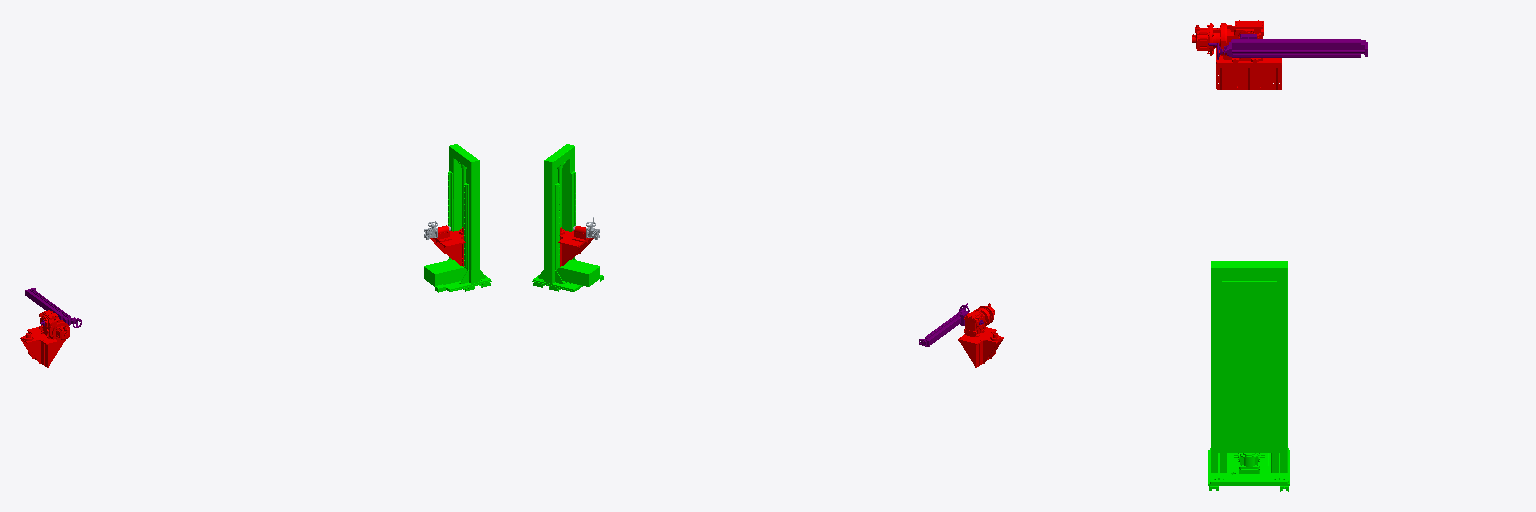
The robot description file, URDF, robot "positioner":
<?xml version="1.0"?>
<robot name="positioner">
  <!-- 
       Positioner Base Link
       Fixed structure, no joints.
       Mass and inertia are omitted as it is a fixed structure.
  -->
  <link name="base_link">
    <visual>
      <!-- Adjust scale if your mesh unit is not in meters (default is 1 1 1) -->
      <!-- Adjust origin if the mesh coordinate center needs fine-tuning -->
      <origin rpy="0 0 0" xyz="0 0 0" />
      <geometry>
        <mesh filename="meshes/positioner/visual/base.dae" />
      </geometry>
      <!-- Optional: Add material color if needed. DAE usually carries its own textures. -->
    </visual>
    <collision>
      <origin rpy="0 0 0" xyz="0 0 0" />
      <geometry>
        <mesh filename="meshes/positioner/collision/base.stl" scale="0.001 0.001 0.001"/>
      </geometry>
    </collision>
  </link>

  <!-- 
       NOTE: For some physics simulation environments (like Gazebo or PyBullet),
       a base_link with no joints or inertia might still fall to the ground 
       or cause warnings.
       
       If you need to strictly fix this model to the world in a physics engine,
       uncomment the following code block:
  -->
  <!--
  <link name="world"/>
  <joint name="world_fixed_joint" type="fixed">
    <parent link="world" />
    <child link="base_link" />
    <origin rpy="0 0 0" xyz="0 0 0" />
  </joint>
  -->

  <!-- ============================================================
       f_column_z: base에서 z축으로 이동하는 prismatic joint
       m_column_z와 항상 동기화되어 동일한 z축 위치를 유지합니다.
       (동기화 로직은 kinematics 소프트웨어 레이어에서 구현 필요)
       ============================================================ -->
  <link name="f_column_z">
    <visual>
      <origin rpy="0 0 0" xyz="0.26 1.375 1.3" />
      <geometry>
        <mesh filename="meshes/positioner/visual/f_column_z.dae"/>
      </geometry>
      <material name="red_color">
        <color rgba="1.0 0.0 0.0 1.0"/>
      </material>
    </visual>
    <collision>
      <origin rpy="0 0 0" xyz="0 0 0" />
      <geometry>
        <mesh filename="meshes/positioner/collision/f_column_z.stl" scale="0.001 0.001 0.001"/>
      </geometry>
    </collision>
  </link>

  <joint name="base_to_f_column_z" type="prismatic">
    <parent link="base_link" />
    <child link="f_column_z" />
    <!-- SYNC: 이 조인트는 m_column_to_m_column_z와 동기화됩니다 (동일 z축 위치) -->
    <origin rpy="0 0 0" xyz="0 0 0" />
    <axis xyz="0 0 1" />
    <limit effort="1000.0" lower="0.0" upper="0.85" velocity="1.0" />
  </joint>

  <!-- ============================================================
       m_column: 수동으로 조작되는 prismatic joint (x축 이동)
       Kinematics 해석 시 이 조인트의 구동값은 사용자가 입력한 값을
       계속 유지해야 합니다 (수동 조작 조인트).
       Movement range: 0 ~ 8500 mm (0.0 ~ 8.5 m)
       ============================================================ -->
  <link name="m_column">
    <visual>
      <origin rpy="0 0 0" xyz="0 0 0" />
      <geometry>
        <mesh filename="meshes/positioner/visual/m_column.dae"/>
      </geometry>
      <material name="green_color">
        <color rgba="0.0 1.0 0.0 1.0"/>
      </material>
    </visual>
    <collision>
      <origin rpy="0 0 0" xyz="0 0 0" />
      <geometry>
        <mesh filename="meshes/positioner/collision/m_column.stl" scale="0.001 0.001 0.001"/>
      </geometry>
    </collision>
  </link>

  <!-- MANUAL JOINT: 수동 조작 조인트 - kinematics 해석 시 사용자 입력값 유지 -->
  <joint name="base_to_m_column" type="prismatic">
    <parent link="base_link" />
    <child link="m_column" />
    <!-- 특정 옵셋만큼 떨어진 위치 (필요시 수정) -->
    <origin rpy="0 0 0" xyz="8.0 1.377 0.328" />
    <axis xyz="1 0 0" />
    <limit effort="1000.0" lower="-4.7" upper="0.0" velocity="1.0" />
  </joint>

  <!-- ============================================================
       m_column_z: m_column에서 z축으로 이동하는 prismatic joint
       f_column_z와 항상 동기화되어 동일한 z축 위치를 유지합니다.
       (동기화 로직은 kinematics 소프트웨어 레이어에서 구현 필요)
       ============================================================ -->
  <link name="m_column_z">
    <visual>
      <origin rpy="0 0 0" xyz="0 0 0.885" />
      <geometry>
        <mesh filename="meshes/positioner/visual/m_column_z.dae"/>
      </geometry>
      <material name="red_color">
        <color rgba="1.0 0.0 0.0 1.0"/>
      </material>
    </visual>
    <collision>
      <origin rpy="0 0 0" xyz="0 0 0" />
      <geometry>
        <mesh filename="meshes/positioner/collision/m_column_z.stl" scale="0.001 0.001 0.001"/>
      </geometry>
    </collision>
  </link>

  <!-- SYNC: 이 조인트는 base_to_f_column_z와 동기화됩니다 (동일 z축 위치) -->
  <joint name="m_column_to_m_column_z" type="prismatic">
    <parent link="m_column" />
    <child link="m_column_z" />
    <origin rpy="0 0 0" xyz="0 0 0" />
    <axis xyz="0 0 1" />
    <limit effort="1000.0" lower="0.0" upper="0.85" velocity="1.0" />
    <mimic joint="base_to_f_column_z" multiplier="1.0" offset="0.0" />
  </joint>
  <!-- ============================================================
       m_column_passive_r: m_column_z 하위의 revolute joint
       수동으로 조작하는 조인트로 사용자가 입력하는 값에만 대응합니다.
       ============================================================ -->
  <link name="m_column_passive_r">
    <visual>
      <origin rpy="0 0 0" xyz="0 0 0" />
      <geometry>
        <mesh filename="meshes/positioner/visual/m_column_passive_r.dae"/>
      </geometry>
    </visual>
    <collision>
      <origin rpy="0 0 0" xyz="0.247 0 -0.885" />
      <geometry>
        <mesh filename="meshes/positioner/collision/m_column_passive_r.stl" scale="0.001 0.001 0.001"/>
      </geometry>
    </collision>
  </link>

  <!-- MANUAL JOINT: 수동 조작 조인트 - kinematics 해석 시 사용자 입력값 대응 -->
  <joint name="m_column_z_to_m_column_passive_r" type="revolute">
    <parent link="m_column_z" />
    <child link="m_column_passive_r" />
    <origin rpy="0 0 0" xyz="-0.247 0 0.885" />
    <axis xyz="1 0 0" /> <!-- 회전축은 필요시 수정 -->
    <limit effort="1000.0" lower="-3.14159" upper="3.14159" velocity="1.0" />
  </joint>
  <!-- ============================================================
       f_column_r: f_column_z 하위의 revolute joint
       ============================================================ -->
  <link name="f_column_r">
    <visual>
      <origin rpy="0 0 0" xyz="0 0 0" />
      <geometry>
        <mesh filename="meshes/positioner/visual/f_column_r.dae"/>
      </geometry>
      <material name="purple_color">
        <color rgba="0.5 0.0 0.5 1.0"/>
      </material>
    </visual>
    <collision>
      <origin rpy="0 0 0" xyz="0 0 0" />
      <geometry>
        <mesh filename="meshes/positioner/collision/f_column_r.stl" scale="0.001 0.001 0.001"/>
      </geometry>
    </collision>
  </link>

  <joint name="f_column_z_to_f_column_r" type="revolute">
    <parent link="f_column_z" />
    <child link="f_column_r" />
    <origin rpy="0 0 0" xyz="0.48 1.37 1.3" />
    <axis xyz="1 0 0" />
    <limit effort="1000.0" lower="-3.14159" upper="3.14159" velocity="1.0" />
  </joint>

  <!-- ============================================================
       f_column_passive_clamp: f_column_r 하위의 prismatic joint
       ============================================================ -->
  <link name="f_column_passive_clamp">
    <visual>
      <origin rpy="0 0 0" xyz="0 0 0" />
      <geometry>
        <mesh filename="meshes/positioner/visual/f_column_passive_clamp.dae"/>
      </geometry>
    </visual>
    <collision>
      <origin rpy="0 0 0" xyz="0 0 0" />
      <geometry>
        <mesh filename="meshes/positioner/collision/f_column_passive_clamp.stl" scale="0.001 0.001 0.001"/>
      </geometry>
    </collision>
  </link>

  <joint name="f_column_r_to_f_column_passive_clamp" type="prismatic">
    <parent link="f_column_r" />
    <child link="f_column_passive_clamp" />
    <origin rpy="0 0 0" xyz="0.427 0.9 0.0" />
    <axis xyz="0 1 0" />
    <limit effort="1000.0" lower="-0.9" upper="0.0" velocity="1.0" />
  </joint>

</robot>

--- What the picture shows (computed from the rendered views, not written in the file) ---
Views: 3 orthographic renders of the robot side by side, from view 1: azimuth 30°, elevation 25°; view 2: azimuth 150°, elevation 25°; view 3: azimuth 270°, elevation 25°.
Model positioner with 7 links and 6 joints (2 revolute, 4 prismatic), rooted at base_link, posed every joint at zero.
Links seen in each view (by area): view 1: m_column, f_column_z, m_column_z, f_column_r; view 2: m_column, f_column_z, m_column_z, f_column_r; view 3: m_column, f_column_z, f_column_r.
Link boxes in pixels (x1=…): m_column: x1=424, y1=144, x2=491, y2=292; f_column_z: x1=20, y1=310, x2=69, y2=367; m_column_z: x1=430, y1=225, x2=465, y2=266; f_column_r: x1=25, y1=288, x2=81, y2=327; m_column: x1=532, y1=144, x2=603, y2=291; f_column_z: x1=958, y1=303, x2=1003, y2=367; m_column_z: x1=558, y1=226, x2=593, y2=266; f_column_r: x1=919, y1=303, x2=983, y2=346; m_column: x1=1208, y1=261, x2=1289, y2=491; f_column_z: x1=1192, y1=20, x2=1281, y2=89; f_column_r: x1=1208, y1=34, x2=1367, y2=59.
Bounding box of the posed robot: 8.09 × 1.6 × 2.16 m (x, y, z).
Meshes: 7 distinct files referenced, 5 mesh visuals loaded (5 Collada DAE); not drawn: 2 (reference not matched to a file when rendering).
